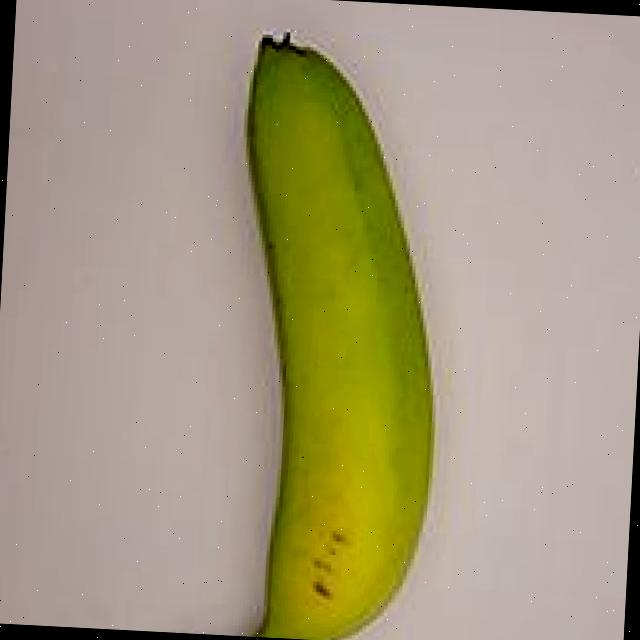Unripe: (110, 0, 501, 640)
